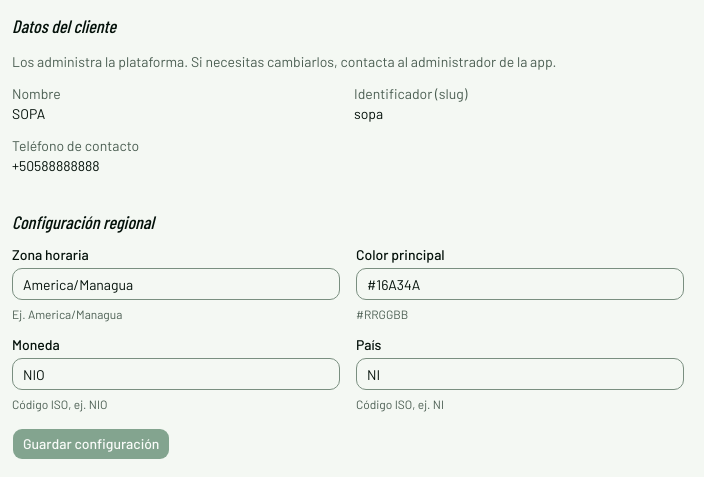
Test case: ConfiguracionCliente (portal admin) › valida zona horaria, moneda, país y color antes de enviar
Replace the text in the field labelled "Zona horaria" with "Marte/Olimpo" at (176, 284), box [12,268,340,300]
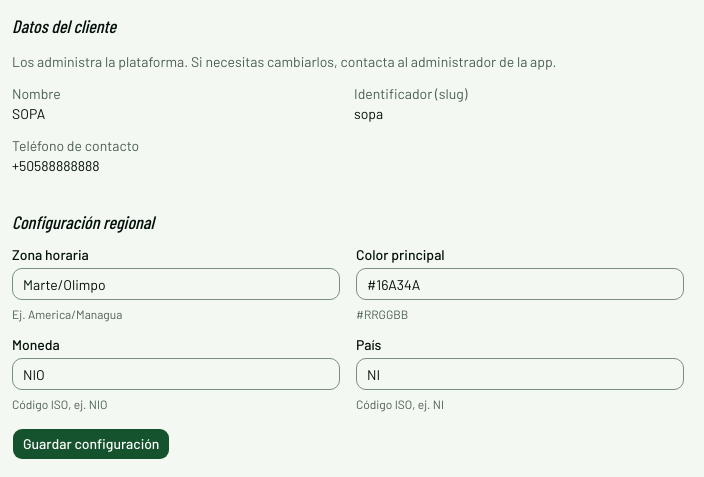
Replace the text in the field labelled "Moneda" with "nio" at (176, 374), box [12,358,340,390]
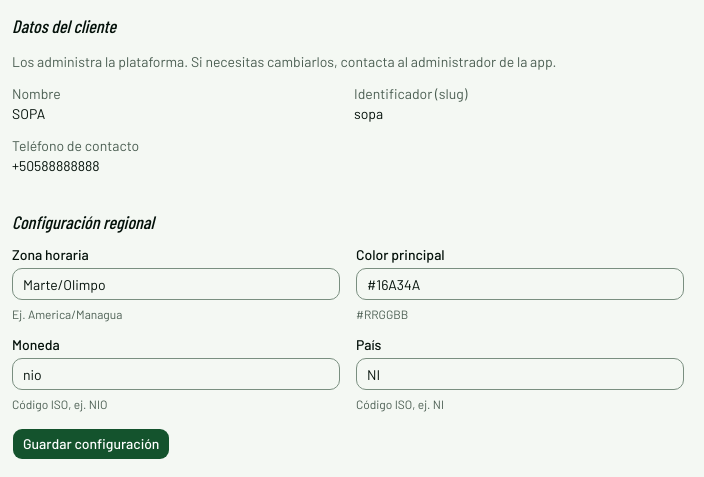
Replace the text in the field labelled "País" with "NIC" at (520, 374), box [356,358,684,390]
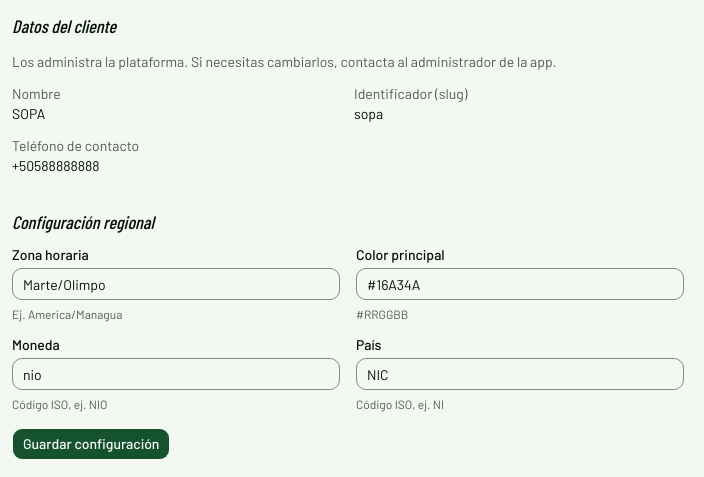
Replace the text in the field labelled "Color principal" with "#12" at (520, 284), box [356,268,684,300]
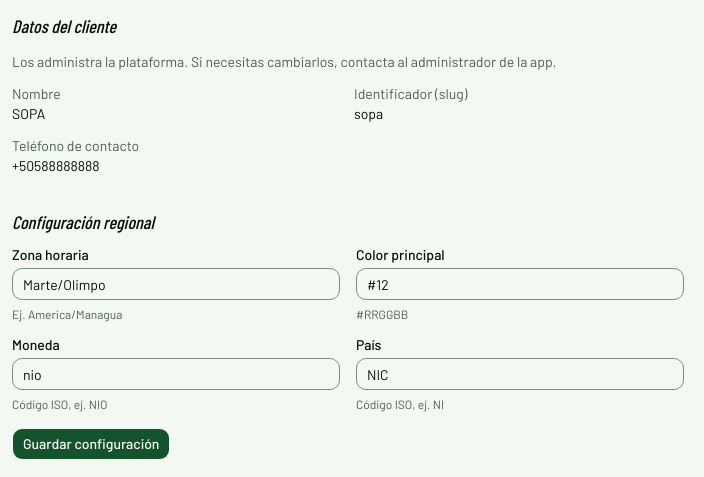
Click the button "Guardar configuración" at (91, 444), box [12,428,170,460]
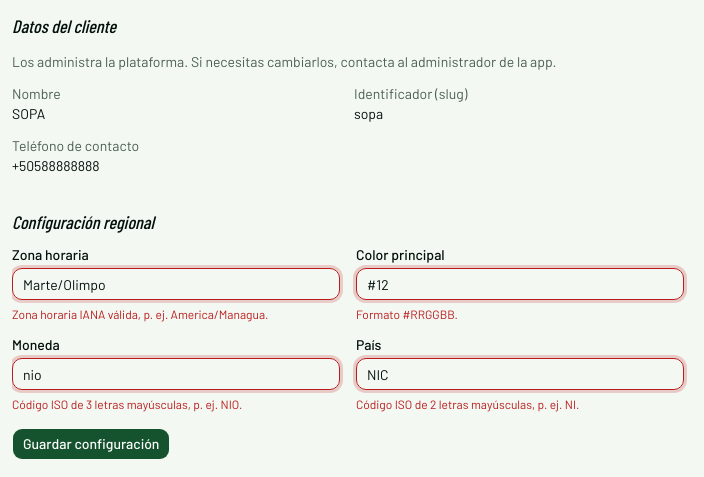
Result: the text "Zona horaria IANA válida, p. ej. America/Managua." is shown at [12,307,268,321]
Result: the text "Código ISO de 3 letras mayúsculas, p. ej. NIO." is shown at [12,397,242,411]
Result: the text "Código ISO de 2 letras mayúsculas, p. ej. NI." is shown at [356,397,579,411]
